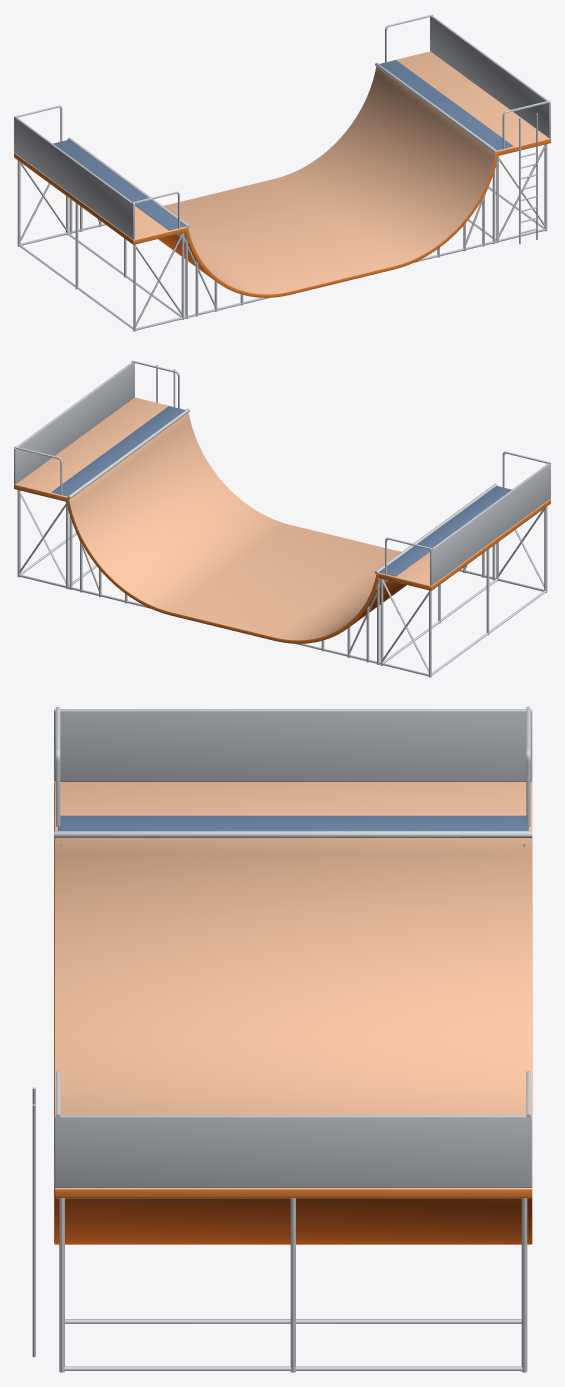
The model's file is skate_half_pipe.glb.
The picture shows the model from 3 angles, top to bottom: view 1: azimuth 30°, elevation 25°; view 2: azimuth 150°, elevation 25°; view 3: azimuth 270°, elevation 25°; orthographic projection. The views are drawn at different scales.
Parts seen in each view (by area): view 1: colisao_rampa, skate_half_pipe; view 2: colisao_rampa, skate_half_pipe; view 3: colisao_rampa, skate_half_pipe.
Boxes of the visible parts, box(x1,y1,x2,y2) form: colisao_rampa: box(158, 66, 498, 297); skate_half_pipe: box(14, 14, 550, 331); colisao_rampa: box(66, 412, 406, 643); skate_half_pipe: box(14, 360, 550, 677); colisao_rampa: box(54, 838, 532, 1244); skate_half_pipe: box(32, 706, 532, 1372).
Bounding box in the file's own units: 12.11 × 3.61 × 6.27.
1 material, 1 textured.
